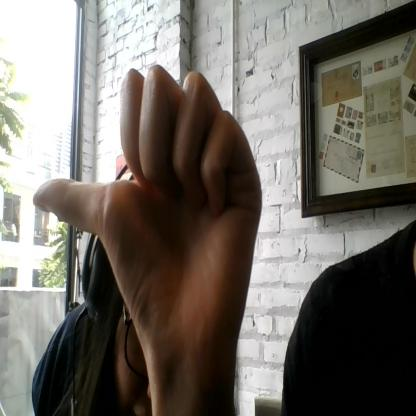right: (34, 69, 264, 343)
